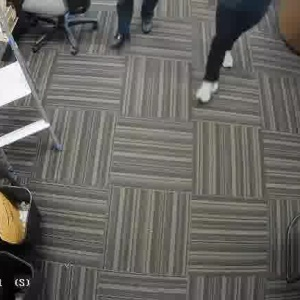person: (197, 0, 273, 104), (111, 0, 162, 47)
